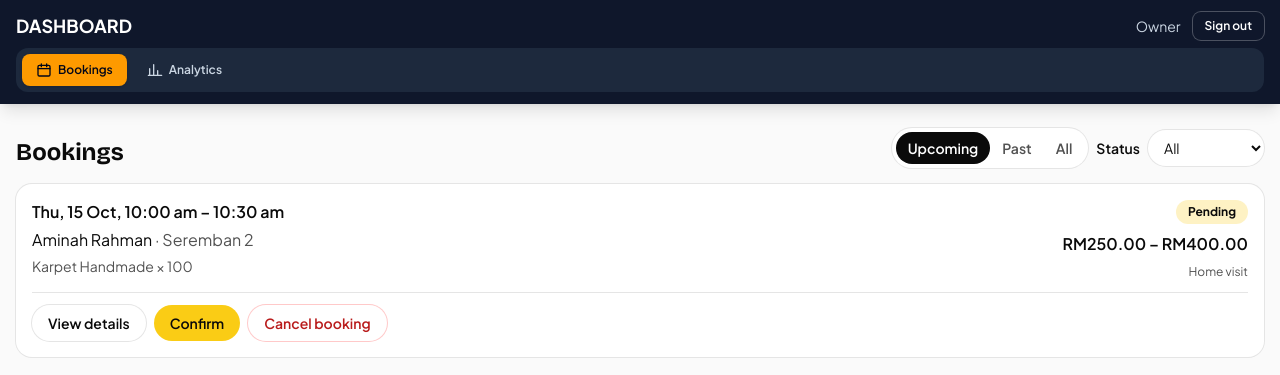
Test: bookings page › confirms a pending booking
Click the button "Confirm" at point(197, 323), box [154,305,240,341]
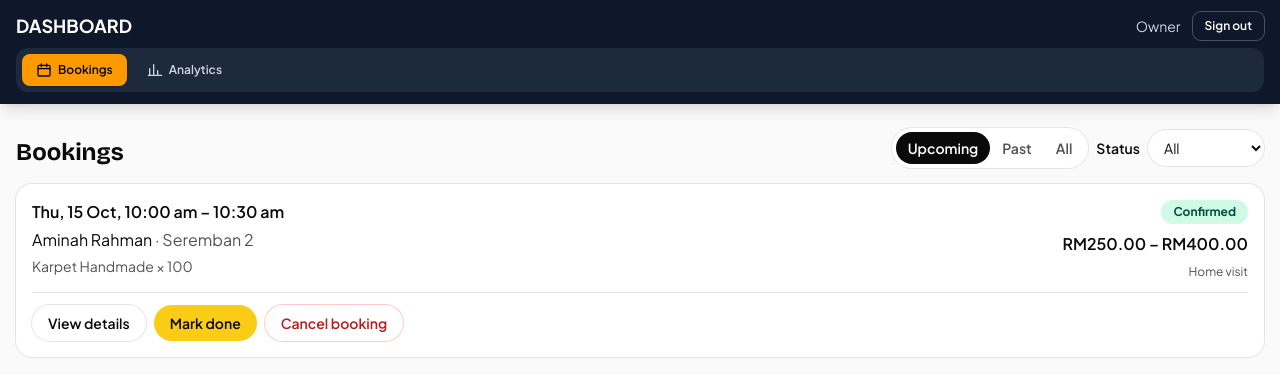
Expected: the text "Confirmed" is shown, [1161,200,1248,224]
Expected: the button "Mark done" is shown, [154,305,257,341]
